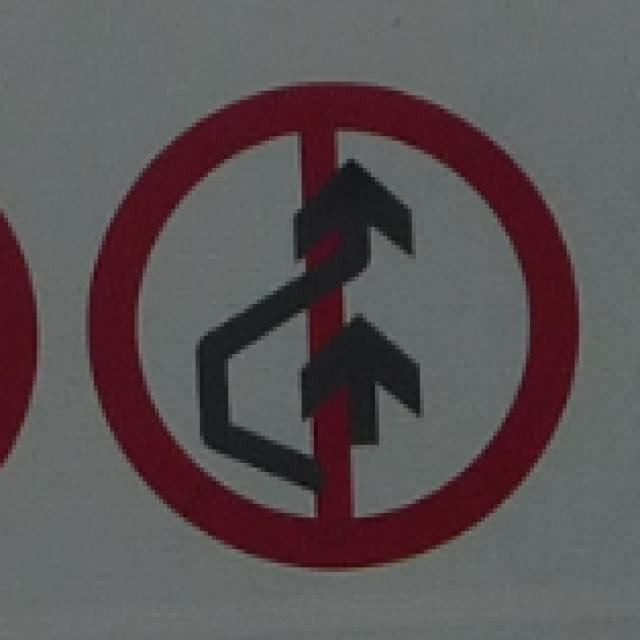Not that Direction: (88, 78, 584, 582)
